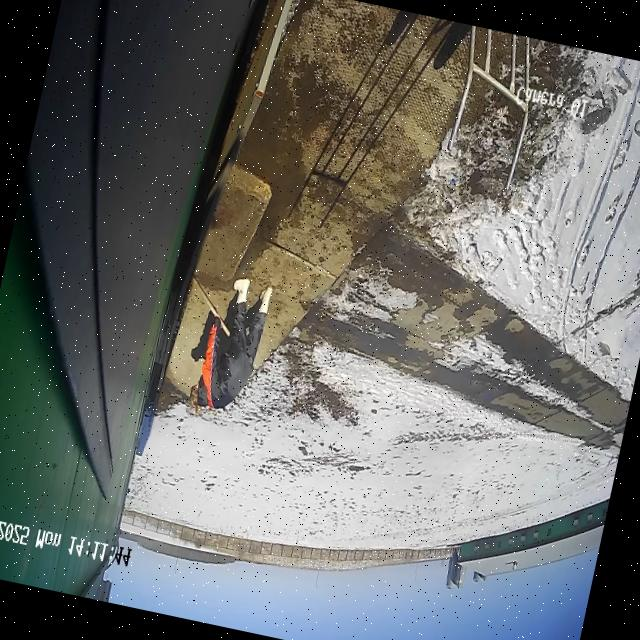Red uniform: (183, 268, 276, 424)
